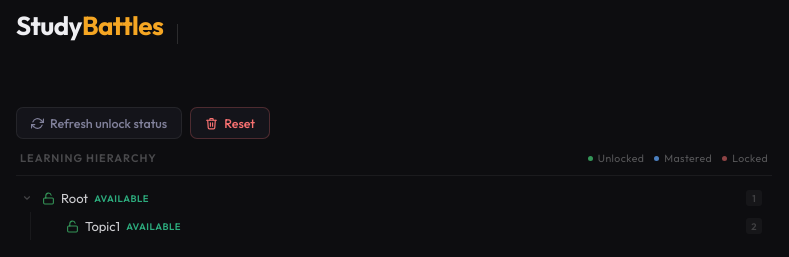
Scenario: Home — refresh button loading state › Refresh button is disabled while fetching unlock status
Click the button "Refresh unlock status". click: (99, 123)
box: [16,107,182,139]
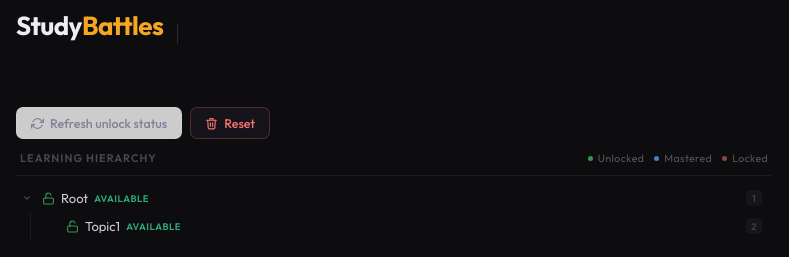
Now the button "Refresh unlock status" is disabled, box [16,107,182,139]
